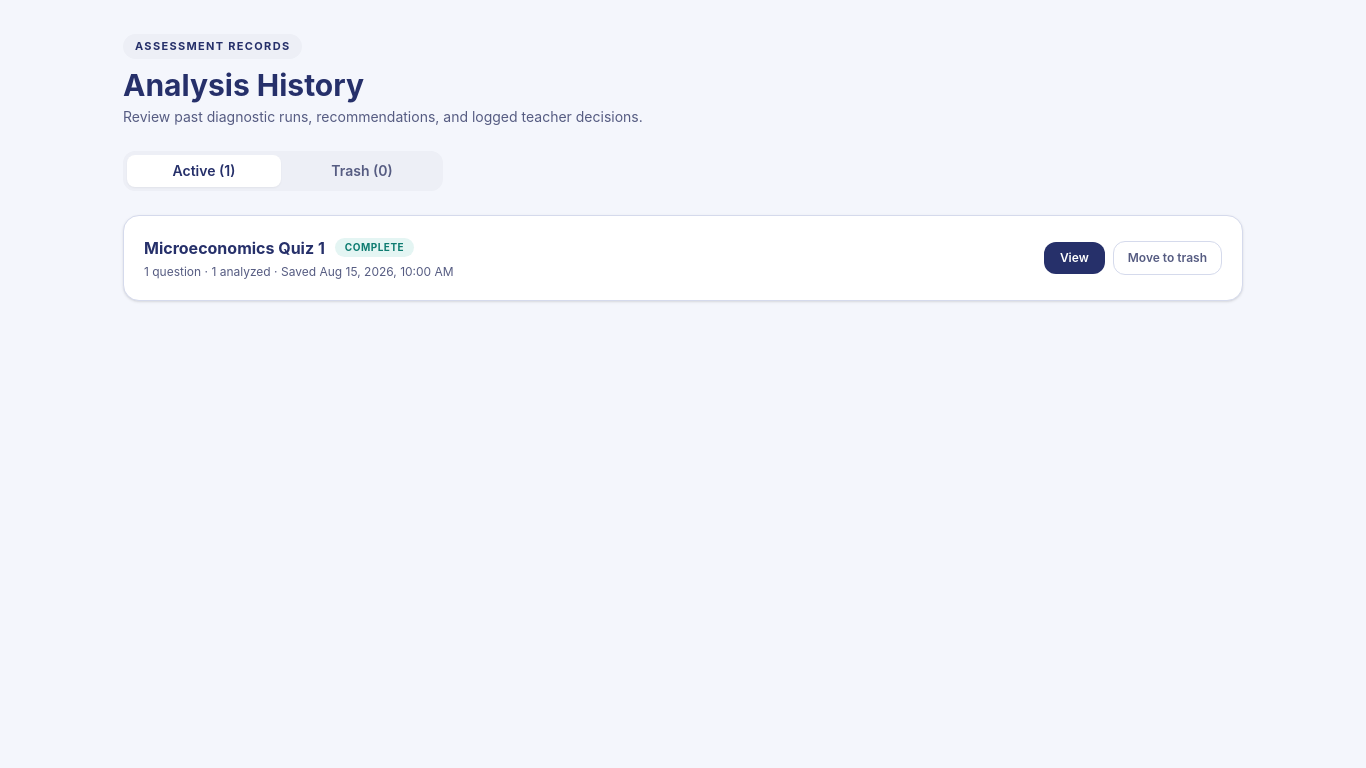
Test: HistoryPage › Active tab › clicking View button opens detail view
Click the button "View" at (1074, 258), box [1044, 242, 1105, 274]
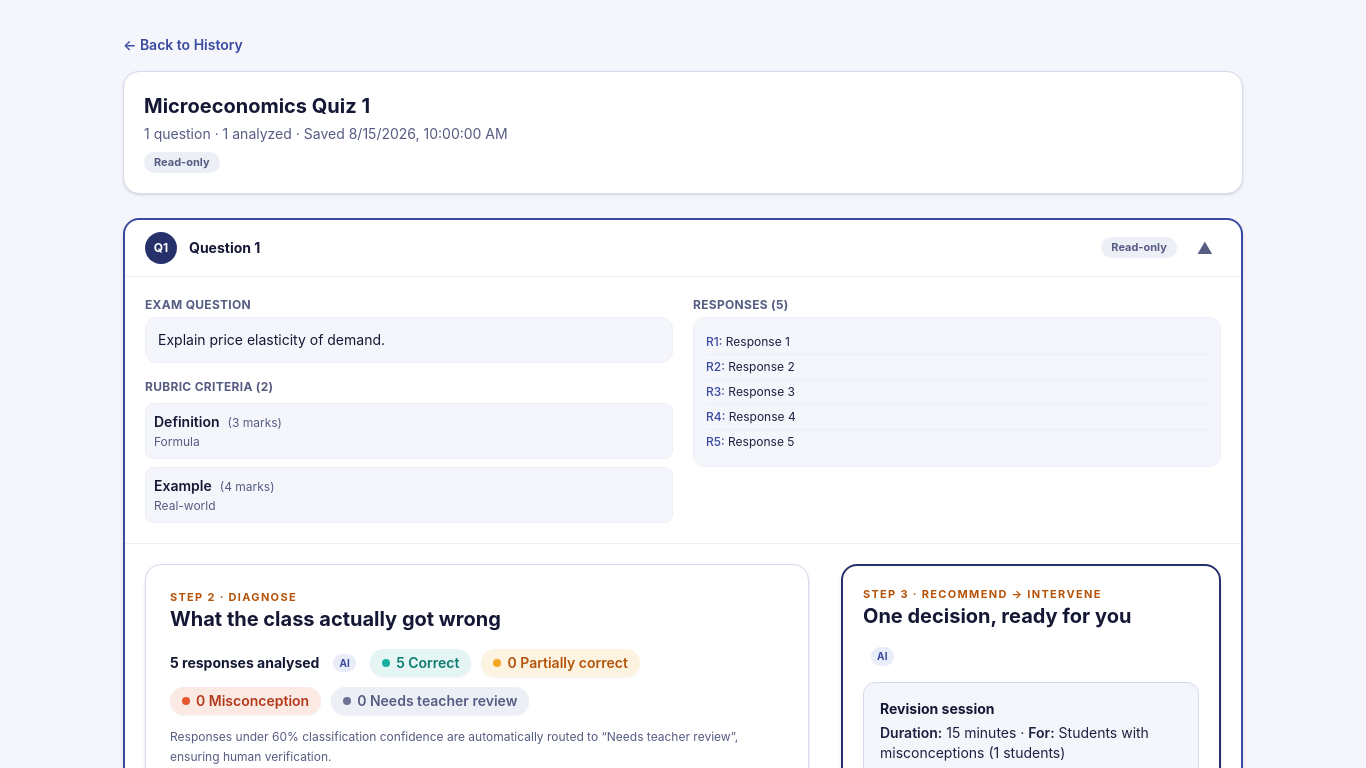
Now the text "Explain price elasticity of demand." is shown, box [145, 316, 673, 362]
